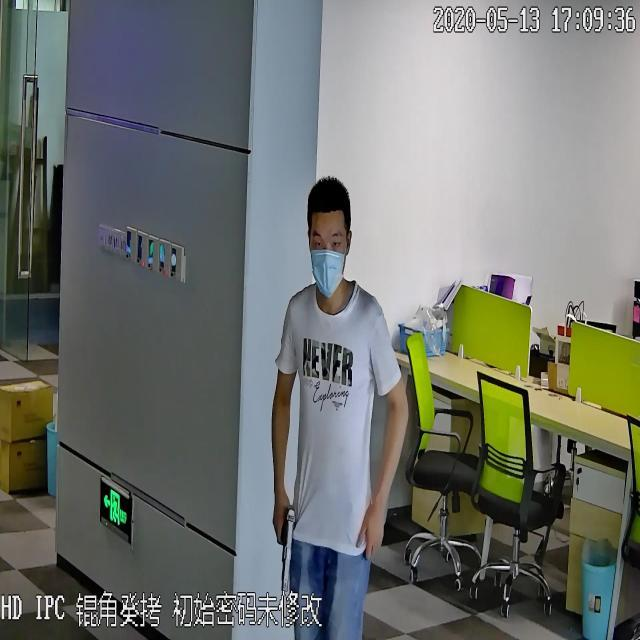gun: (274, 498, 295, 594)
